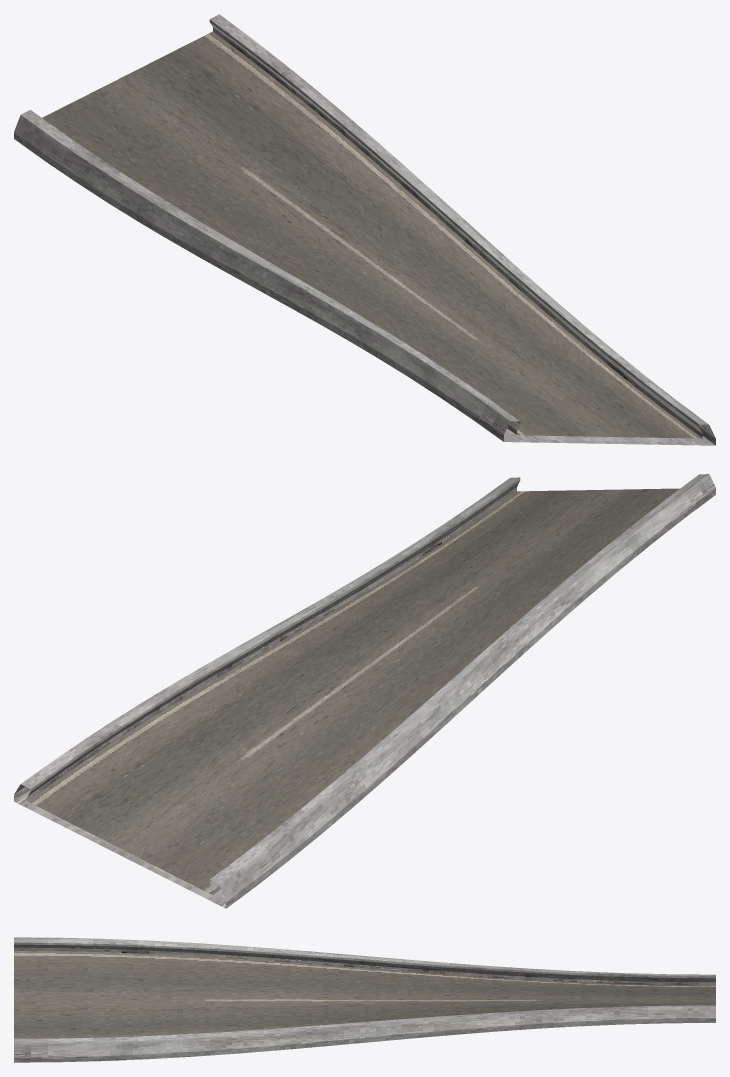
Rendered from road-Straight-HalfBankedRight-HalfBankedLeft-Even-Center-Size4.glb.
3 renders of one model, top to bottom at view 1: azimuth 30°, elevation 25°; view 2: azimuth 150°, elevation 25°; view 3: azimuth 270°, elevation 25°, orthographic. The views are drawn at different scales.
Visible parts, largest first — view 1: road-Straight-HalfBankedRight-HalfBankedLeft-Even-Center-Siz; view 2: road-Straight-HalfBankedRight-HalfBankedLeft-Even-Center-Siz; view 3: road-Straight-HalfBankedRight-HalfBankedLeft-Even-Center-Siz.
Boxes of the visible parts, x1,y1,x2,y2 form: road-Straight-HalfBankedRight-HalfBankedLeft-Even-Center-Siz: [14, 14, 715, 445]; road-Straight-HalfBankedRight-HalfBankedLeft-Even-Center-Siz: [14, 474, 715, 908]; road-Straight-HalfBankedRight-HalfBankedLeft-Even-Center-Siz: [14, 937, 715, 1062].
Size of the model in its own units: 1 by 0.3359 by 4.
Materials: 2 (2 with a texture image).
